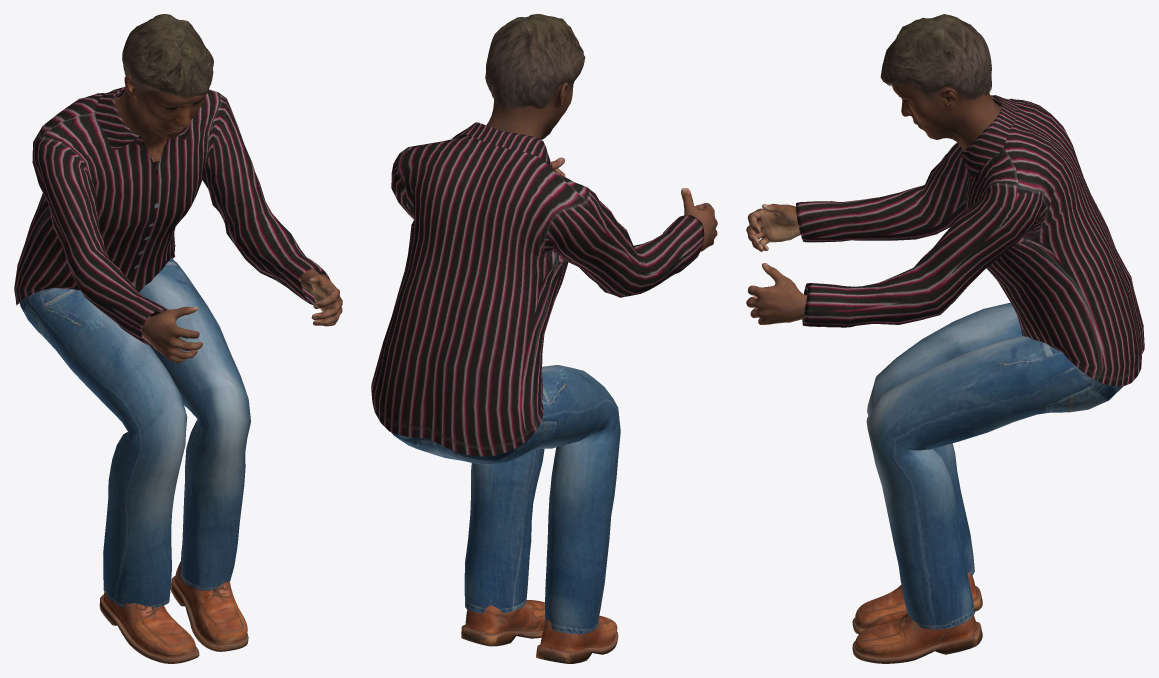
File: uomo-02.glb
3 renders of one model, left to right at view 1: azimuth 30°, elevation 25°; view 2: azimuth 150°, elevation 25°; view 3: azimuth 270°, elevation 25°, orthographic. The views are drawn at different scales.
Parts seen in each view (by area): view 1: Human.male_casualsuit03, Human.shoes01, Human, Human.short02; view 2: Human.male_casualsuit03, Human.short02, Human.shoes01, Human; view 3: Human.male_casualsuit03, Human, Human.short02, Human.shoes01.
Part boxes in pixels (x1,y1,x2,y2): Human.male_casualsuit03: (14, 86, 330, 607); Human.shoes01: (99, 561, 248, 663); Human: (114, 75, 342, 363); Human.short02: (122, 14, 213, 99); Human.male_casualsuit03: (371, 122, 704, 634); Human.short02: (485, 14, 585, 109); Human.shoes01: (461, 600, 618, 663); Human: (486, 83, 717, 251); Human.male_casualsuit03: (796, 95, 1144, 629); Human: (746, 84, 1002, 324); Human.short02: (880, 14, 991, 103); Human.shoes01: (852, 573, 982, 663).
Size of the model in its own units: 0.5176 by 1.46 by 0.8489.
Materials: 12 (12 with a texture image).
